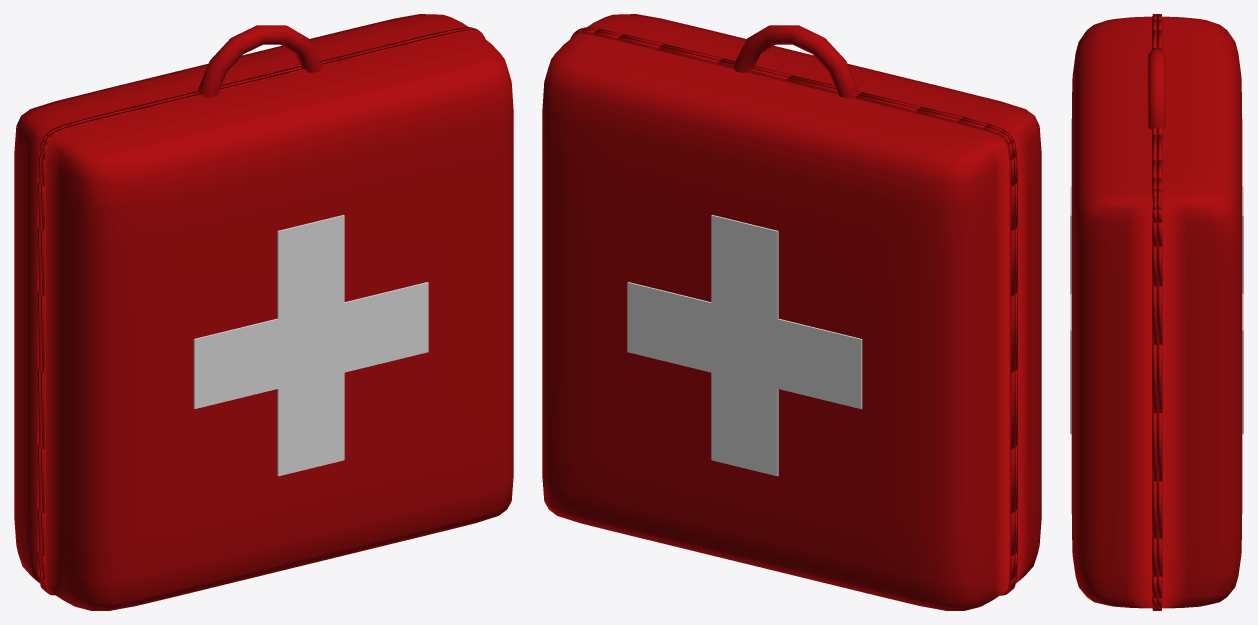
File: botiquin.fbx
3 renders of one model, left to right at view 1: azimuth 30°, elevation 25°; view 2: azimuth 150°, elevation 25°; view 3: azimuth 270°, elevation 25°, orthographic. The views are drawn at different scales.
Parts seen in each view (by area): view 1: Cube, Cube.001, Torus.001; view 2: Cube, Cube.001, Torus.001; view 3: Cube, Torus.001, Cube.001.
Part boxes in pixels (left/top/right/bottom): Cube: left=14, top=14, right=513, bottom=610; Cube.001: left=193, top=215, right=428, bottom=476; Torus.001: left=198, top=25, right=321, bottom=98; Cube: left=542, top=14, right=1041, bottom=610; Cube.001: left=627, top=215, right=862, bottom=476; Torus.001: left=734, top=25, right=857, bottom=98; Cube: left=1071, top=14, right=1242, bottom=610; Torus.001: left=1148, top=48, right=1165, bottom=129; Cube.001: left=1070, top=186, right=1243, bottom=434.
Bounding box in the file's own units: 100 × 115 × 37.96.
